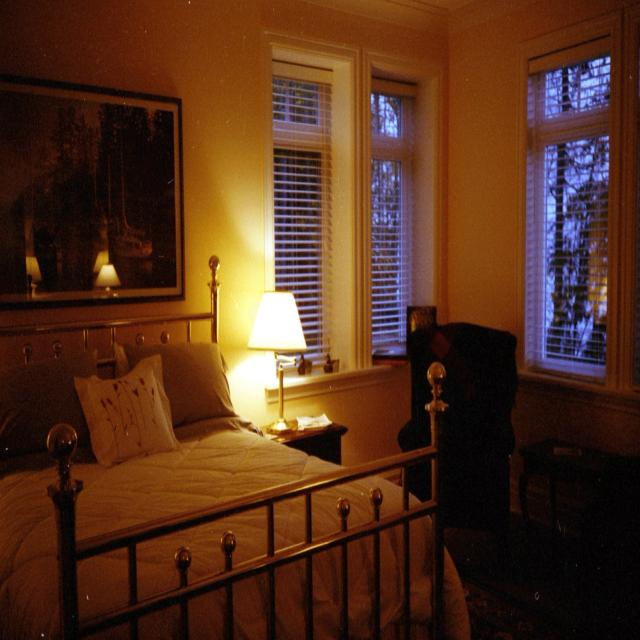Table: (400, 299, 518, 513), (521, 425, 640, 612), (257, 383, 347, 483)
